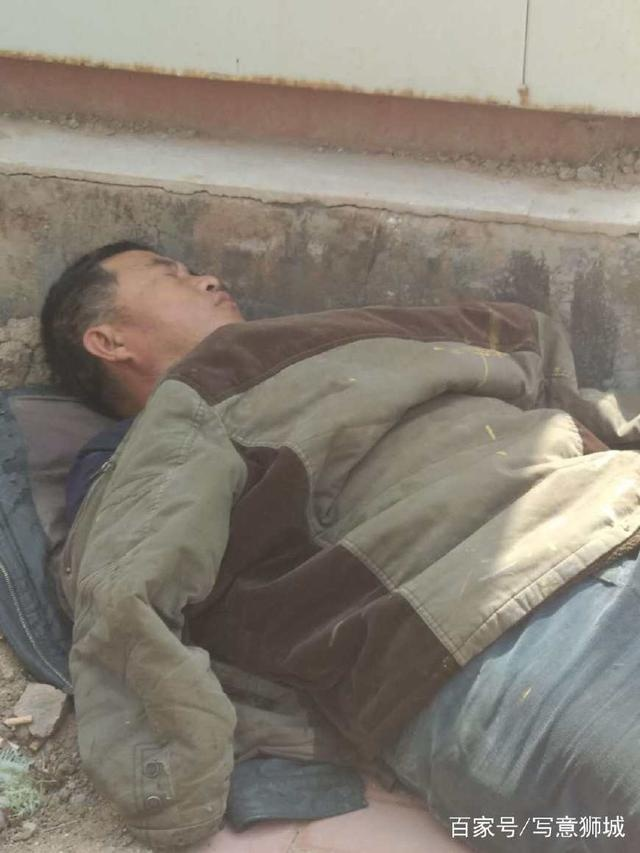falling: (9, 235, 640, 853)
